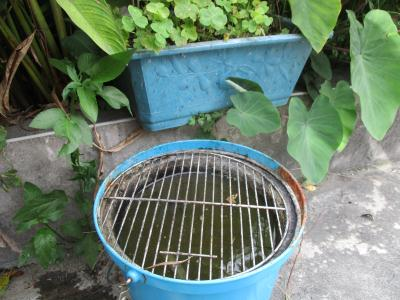bucket: (89, 137, 310, 298)
